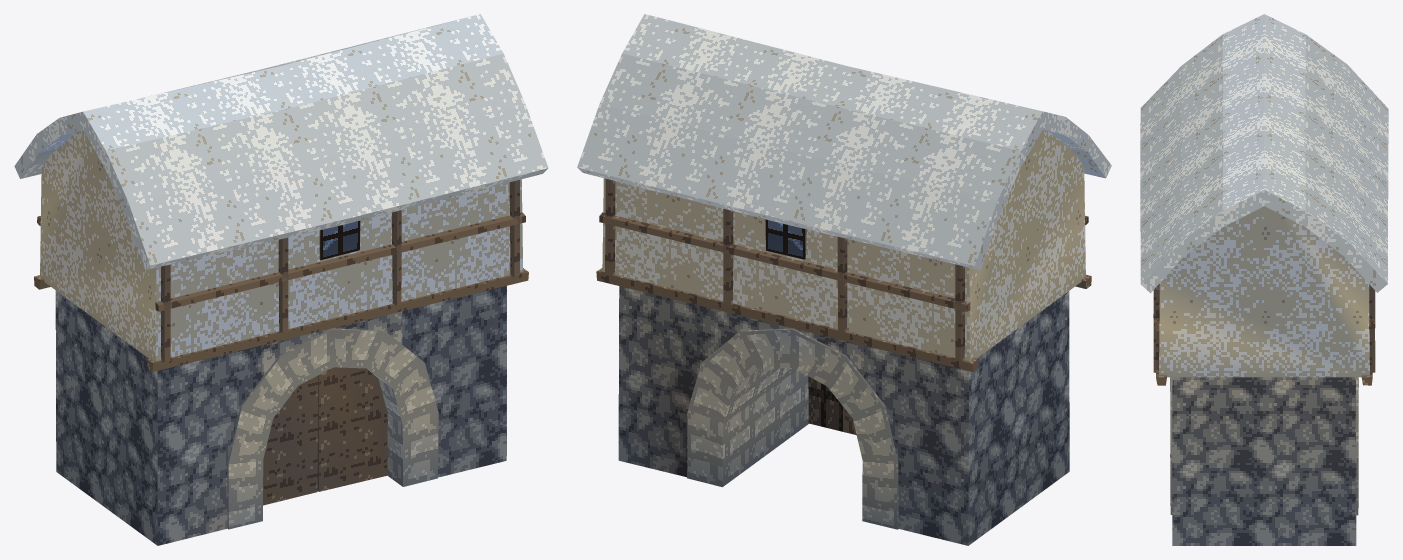
Rendered from vlg.gatehouse.glb.
The picture shows the model from 3 angles, left to right: view 1: azimuth 30°, elevation 25°; view 2: azimuth 150°, elevation 25°; view 3: azimuth 270°, elevation 25°; orthographic projection. The views are drawn at different scales.
Visible parts, largest first — view 1: kit_roof, kit_stonework, kit_walls, kit_fittings, kit_frame; view 2: kit_roof, kit_stonework, kit_walls, kit_frame, kit_fittings; view 3: kit_roof, kit_stonework, kit_walls, kit_frame.
Boxes of the visible parts, x1,y1,x2,y2 form: kit_roof: [14, 14, 548, 270]; kit_stonework: [55, 286, 506, 545]; kit_walls: [40, 130, 523, 361]; kit_fittings: [263, 220, 387, 505]; kit_frame: [34, 180, 528, 371]; kit_roof: [577, 14, 1111, 270]; kit_stonework: [618, 286, 1069, 545]; kit_walls: [602, 130, 1085, 361]; kit_frame: [596, 179, 1091, 371]; kit_fittings: [765, 219, 856, 434]; kit_roof: [1140, 14, 1388, 293]; kit_stonework: [1170, 377, 1358, 545]; kit_walls: [1159, 206, 1369, 377]; kit_frame: [1153, 284, 1375, 385].
Bounding box in the file's own units: 9.12 × 8.82 × 5.41.
Materials: 8 (8 with a texture image).
